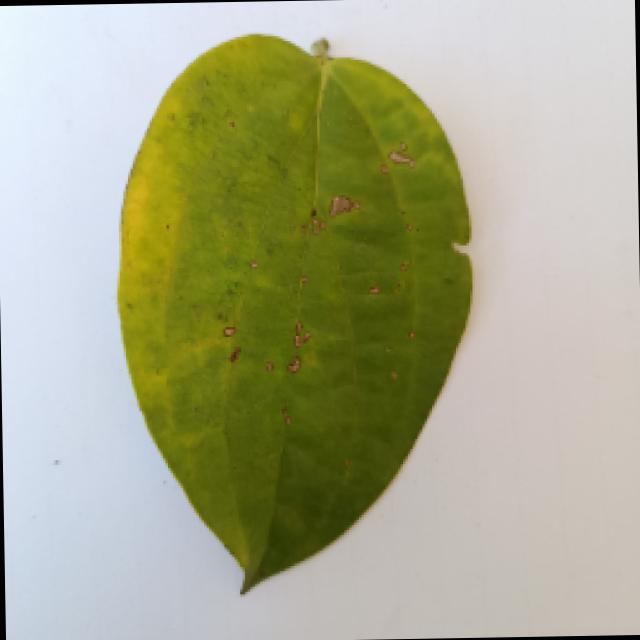slow-decline: (100, 38, 480, 592)
